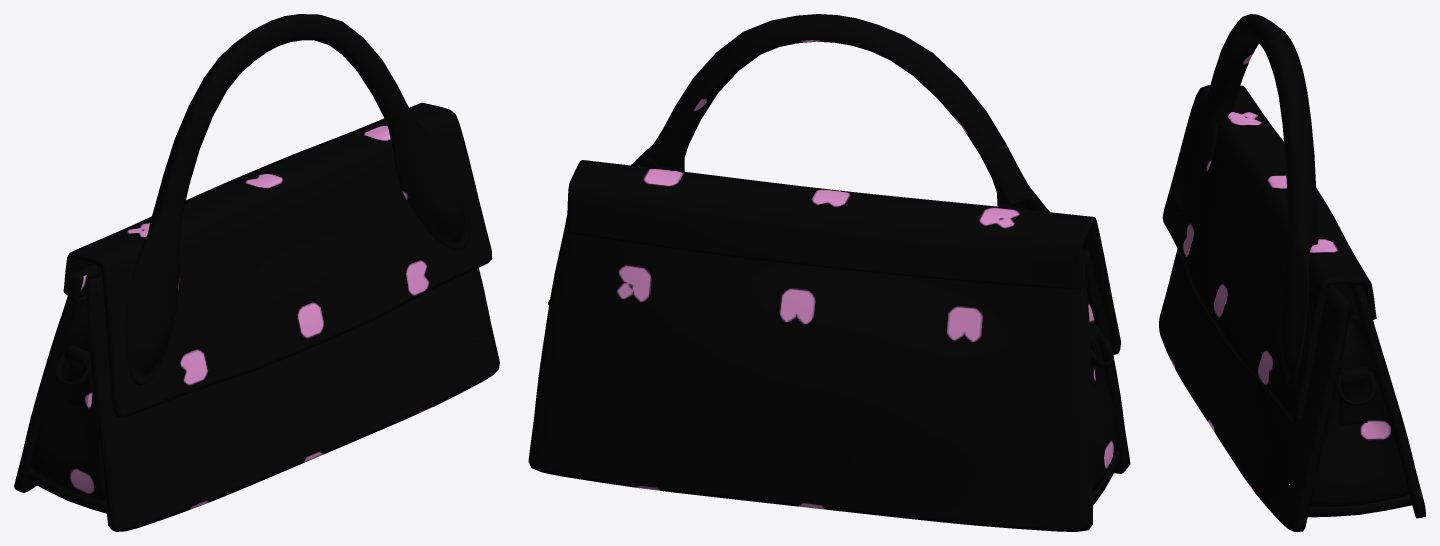
Rendered from Bag.glb.
The picture shows the model from 3 angles, left to right: view 1: azimuth 30°, elevation 25°; view 2: azimuth 150°, elevation 25°; view 3: azimuth 270°, elevation 25°; orthographic projection. The views are drawn at different scales.
Visible parts, largest first — view 1: Bag_Mesh_; view 2: Bag_Mesh_; view 3: Bag_Mesh_.
Boxes of the visible parts, box(x1,y1,x2,y2) form: Bag_Mesh_: box(14, 14, 499, 531); Bag_Mesh_: box(528, 14, 1130, 531); Bag_Mesh_: box(1159, 14, 1425, 531).
Size of the model in its own units: 0.1949 by 0.1591 by 0.0965.
1 material, 1 textured.
